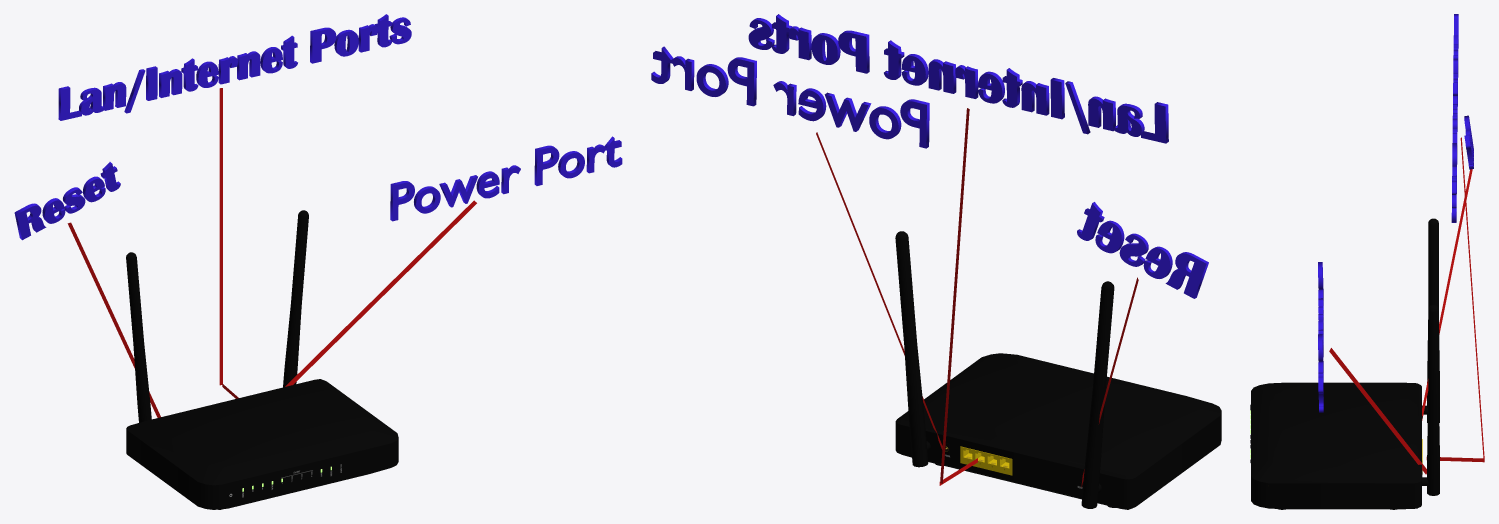
Rendered from finalwifi.gltf.
3 renders of one model, left to right at view 1: azimuth 30°, elevation 25°; view 2: azimuth 150°, elevation 25°; view 3: azimuth 270°, elevation 25°, orthographic. The views are drawn at different scales.
Parts seen in each view (by area): view 1: Router, Text, Text.002, Text.001, NurbsPath.003, NurbsPath.001, NurbsPath.002; view 2: Router, Text, Text.002, Text.001, NurbsPath.001, NurbsPath.003; view 3: Router, Text, Text.002, NurbsPath.003, NurbsPath.002, NurbsPath.001, Text.001.
Boxes of the visible parts, left/top/right/bottom form: Router: left=126, top=210, right=398, bottom=509; Text: left=58, top=14, right=411, bottom=120; Text.002: left=390, top=136, right=622, bottom=221; Text.001: left=14, top=162, right=120, bottom=240; NurbsPath.003: left=285, top=200, right=476, bottom=386; NurbsPath.001: left=219, top=88, right=222, bottom=385; NurbsPath.002: left=67, top=222, right=160, bottom=417; Router: left=895, top=231, right=1221, bottom=509; Text: left=748, top=14, right=1168, bottom=143; Text.002: left=651, top=46, right=929, bottom=148; Text.001: left=1077, top=202, right=1208, bottom=298; NurbsPath.001: left=940, top=108, right=969, bottom=483; NurbsPath.003: left=816, top=132, right=942, bottom=449; Router: left=1250, top=218, right=1439, bottom=509; Text: left=1451, top=14, right=1458, bottom=222; Text.002: left=1318, top=262, right=1323, bottom=412; NurbsPath.003: left=1329, top=348, right=1426, bottom=474; NurbsPath.002: left=1422, top=169, right=1472, bottom=420; NurbsPath.001: left=1460, top=137, right=1484, bottom=458; Text.001: left=1464, top=115, right=1473, bottom=169.
Size of the model in its own units: 2.17 by 1.45 by 0.8045.
Materials: 3 (1 with a texture image).
